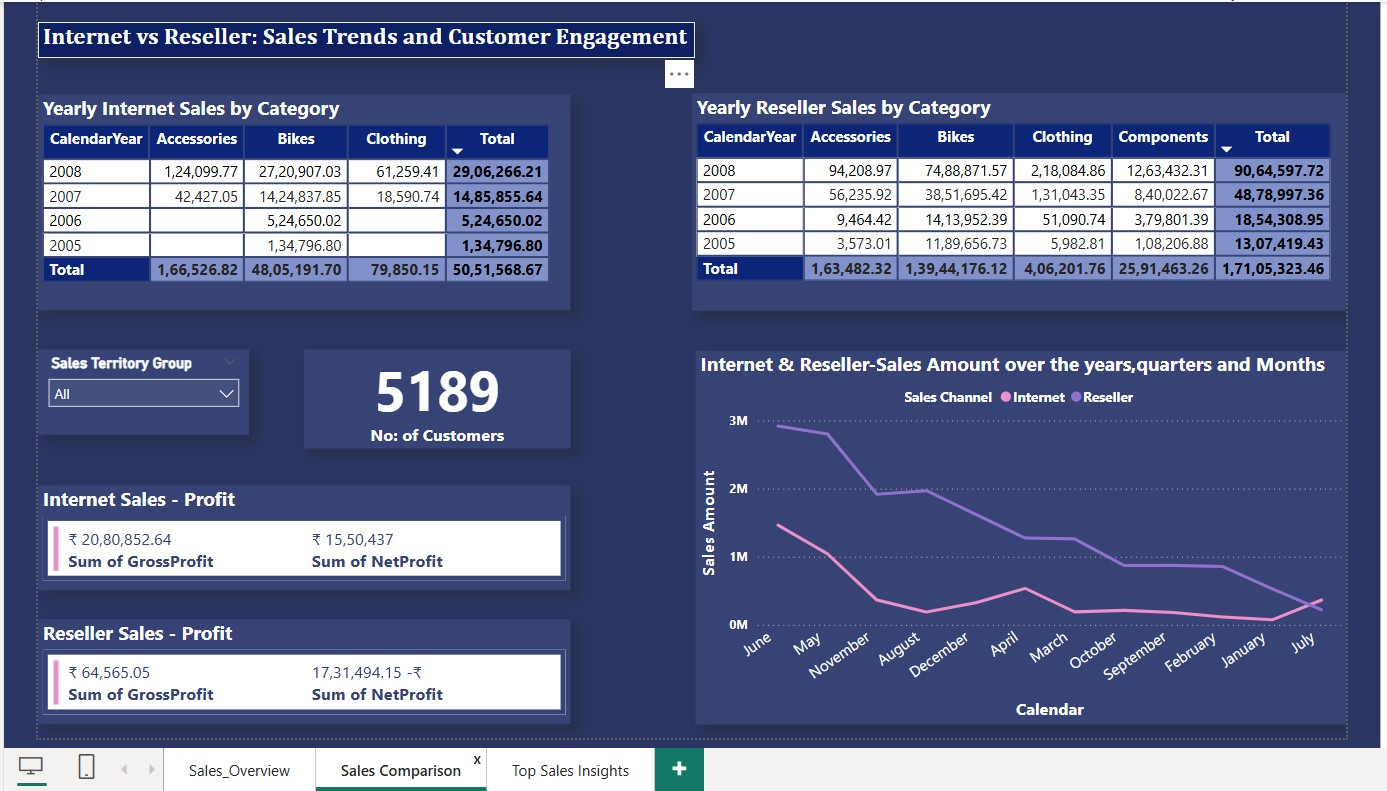

What the dashboard file says about the page in this screenshot:
{"tool":"powerbi","page":{"name":"Sales Comparison","canvas":[1280,720],"ordinal":1},"visuals":[{"type":"multiRowCard","title":"Internet Sales - Profit","fields":{"Values":["Sum(FactInternetSales.GrossProfit)","Sum(FactInternetSales.NetProfit)"]},"box":[0,473.2,520.9,102.7],"z":0},{"type":"pivotTable","title":"Yearly Internet Sales by Category","fields":{"Rows":["DimDate.CalendarYear"],"Columns":["DimProductcategory.EnglishProductCategoryName"],"Values":["Sum(UnifiedSales.SalesAmount)"]},"box":[0,90.5,520.9,211.6],"z":1000},{"type":"pivotTable","title":"Yearly Reseller Sales by Category","fields":{"Rows":["DimDate.CalendarYear"],"Columns":["DimProductcategory.EnglishProductCategoryName"],"Values":["Sum(UnifiedSales.SalesAmount)"]},"box":[639.5,89.3,640.8,212.8],"z":2000},{"type":"multiRowCard","title":"Reseller Sales - Profit","fields":{"Values":["Sum(FactResellerSales.GrossProfit)","Sum(FactResellerSales.NetProfit)"]},"box":[0,604.1,520.9,102.7],"z":3000},{"type":"textbox","title":"Internet vs Reseller: Sales Trends and Customer Engagement","box":[0,19.6,643.2,35.5],"z":4000},{"type":"lineChart","title":"Internet & Reseller-Sales Amount over the years,quarters and Months","fields":{"Category":["DimDate.CalendarYear","DimDate.CalendarQuarter","DimDate.EnglishMonthName"],"Y":["Sum(UnifiedSales.SalesAmount)"],"Series":["UnifiedSales.SalesChannel"]},"box":[643.2,341.2,637.1,365.6],"z":5000},{"type":"slicer","fields":{"Values":["DimDate.CalendarYear"]},"box":[0,339.9,206.7,83.2],"z":6000},{"type":"card","fields":{"Values":["DimCustomer.No: of Customers"]},"box":[260.5,339.9,260.5,96.6],"z":7000}]}

Visuals, with their boxes on the page's 1280x720 design canvas (x1, y1, x2, y2). These are canvas units, not pixel positions in the 1387x791 screenshot, which may show the page scaled, cropped or inside an application window:
"Internet Sales - Profit" multiRowCard: (0,473,521,576)
"Yearly Internet Sales by Category" pivotTable: (0,90,521,302)
"Yearly Reseller Sales by Category" pivotTable: (640,89,1280,302)
"Reseller Sales - Profit" multiRowCard: (0,604,521,707)
"Internet vs Reseller: Sales Trends and Customer Engagement" textbox: (0,20,643,55)
"Internet & Reseller-Sales Amount over the years,quarters and Months" lineChart: (643,341,1280,707)
slicer - DimDate.CalendarYear: (0,340,207,423)
card - DimCustomer.No: of Customers: (260,340,521,436)
